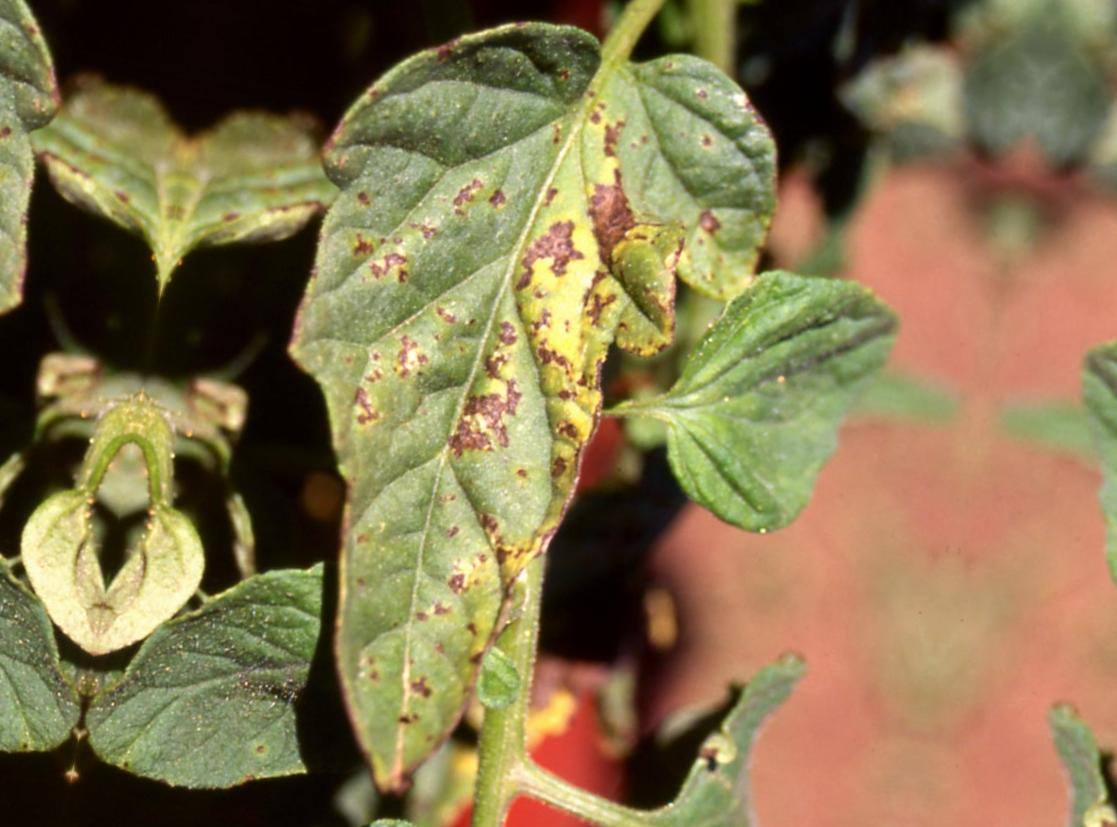Tomato leaf bacterial spot: (198, 0, 802, 827), (597, 209, 957, 576)
